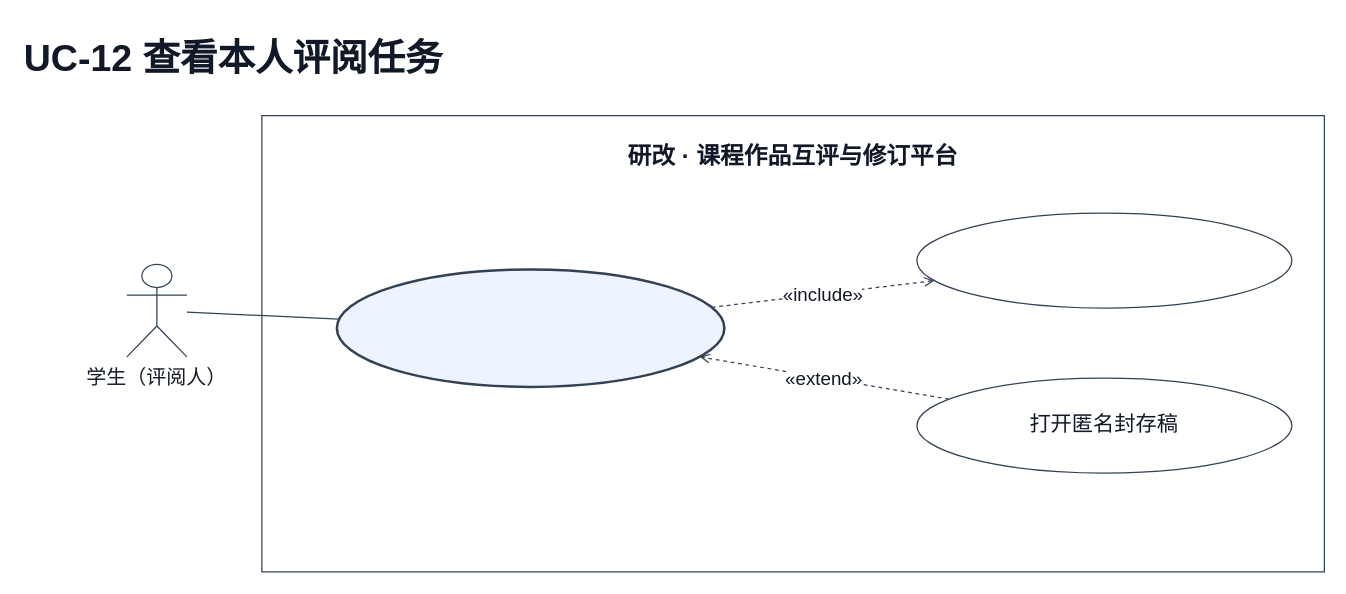
The diagram is 1346 pixels wide and 594 high, and some of its shapes have lost their labels. Each missing label, with the box of its shape:
查看任务状态与截止时间: (916, 212, 1292, 308)
查看本人评阅任务: (335, 268, 725, 388)
